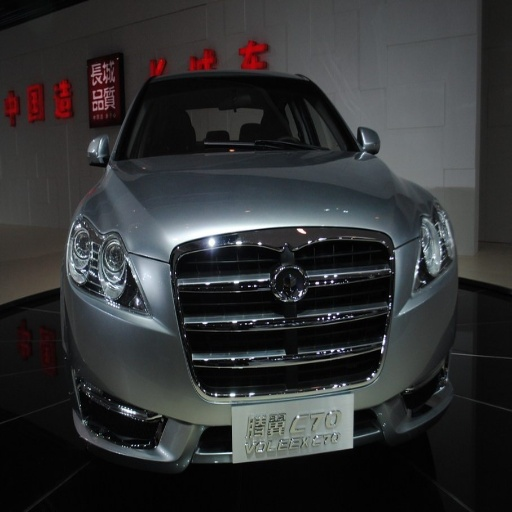front_bumper: (67, 227, 455, 472)
front_right_light: (67, 209, 153, 316)
hood: (101, 152, 435, 262)
